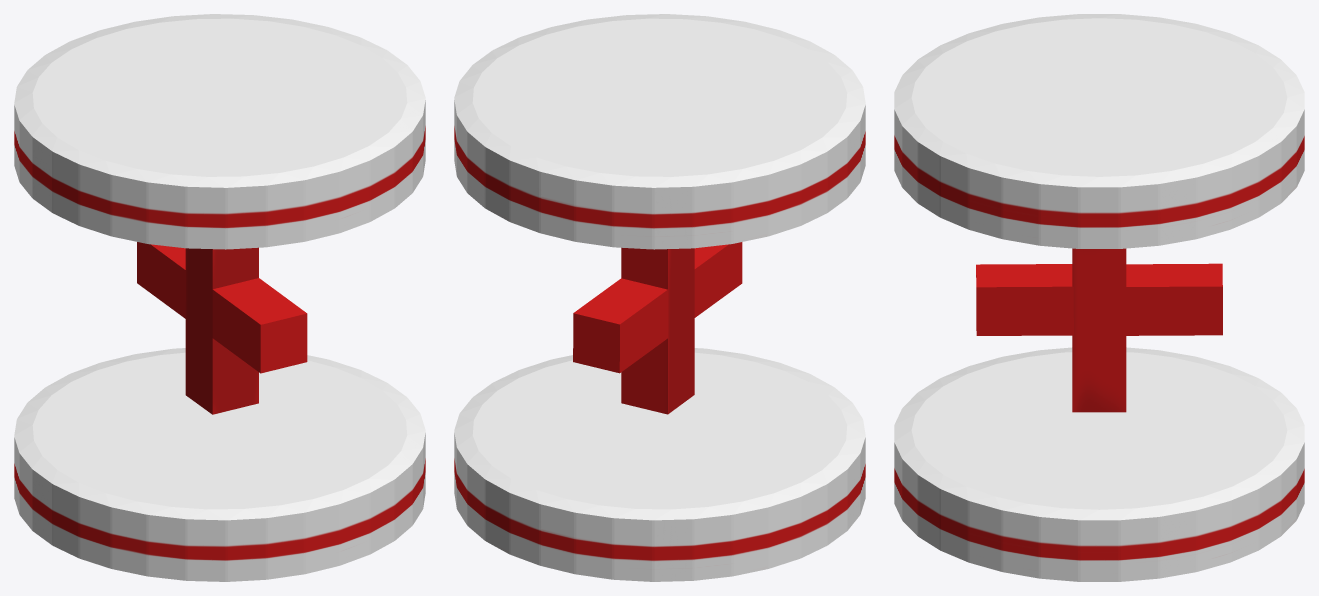
The model's file is HealthPickup1.fbx.
The picture shows the model from 3 angles, left to right: view 1: azimuth 30°, elevation 25°; view 2: azimuth 150°, elevation 25°; view 3: azimuth 270°, elevation 25°; orthographic projection.
Visible parts, largest first — view 1: Cylinder.001, Cylinder, Cube, Cube.001, Cube.002; view 2: Cylinder.001, Cylinder, Cube, Cube.002, Cube.001; view 3: Cylinder.001, Cylinder, Cube, Cube.001, Cube.002.
Part boxes in pixels (box(x1,y1,x2,y2)): Cylinder.001: box(14, 14, 425, 249); Cylinder: box(14, 348, 425, 581); Cube: box(185, 247, 258, 414); Cube.001: box(212, 278, 307, 373); Cube.002: box(137, 242, 185, 318); Cylinder.001: box(454, 14, 865, 249); Cylinder: box(454, 348, 865, 581); Cube: box(621, 247, 694, 414); Cube.002: box(573, 278, 668, 373); Cube.001: box(694, 242, 742, 317); Cylinder.001: box(894, 14, 1304, 248); Cylinder: box(894, 347, 1304, 581); Cube: box(1072, 248, 1126, 412); Cube.001: box(976, 264, 1073, 335); Cube.002: box(1126, 263, 1222, 335).
Size of the model in its own units: 214 by 231 by 214.
